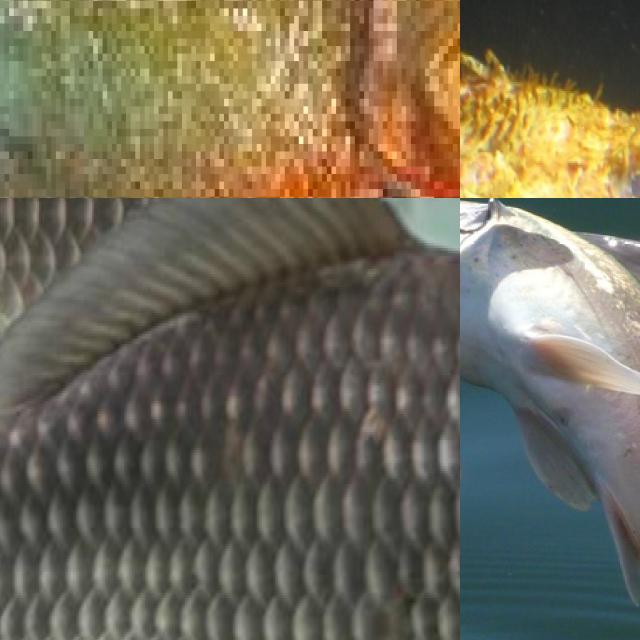fish: (0, 198, 460, 640), (0, 0, 460, 198), (460, 198, 640, 640), (460, 24, 640, 198)
